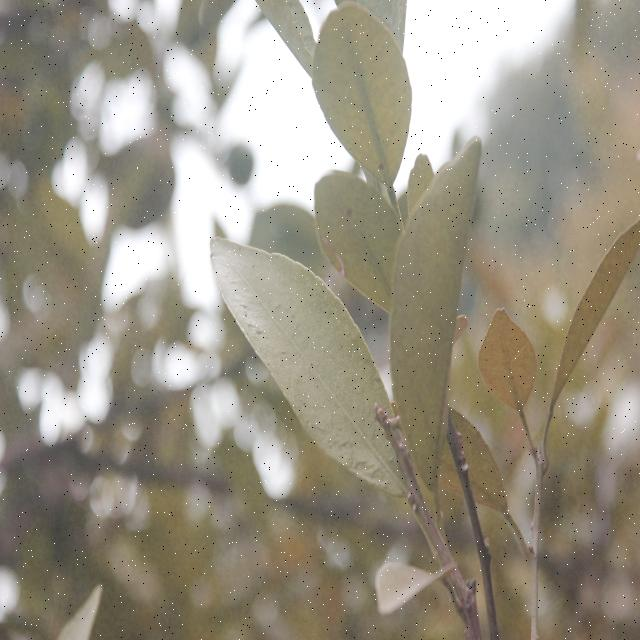blackspot: (225, 251, 367, 448)
